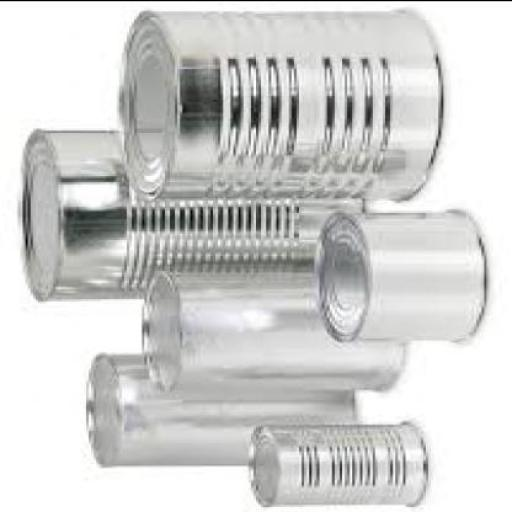metal: (109, 10, 439, 204), (16, 130, 362, 304), (140, 272, 408, 400), (81, 356, 362, 466), (314, 208, 484, 343), (246, 424, 424, 510)
